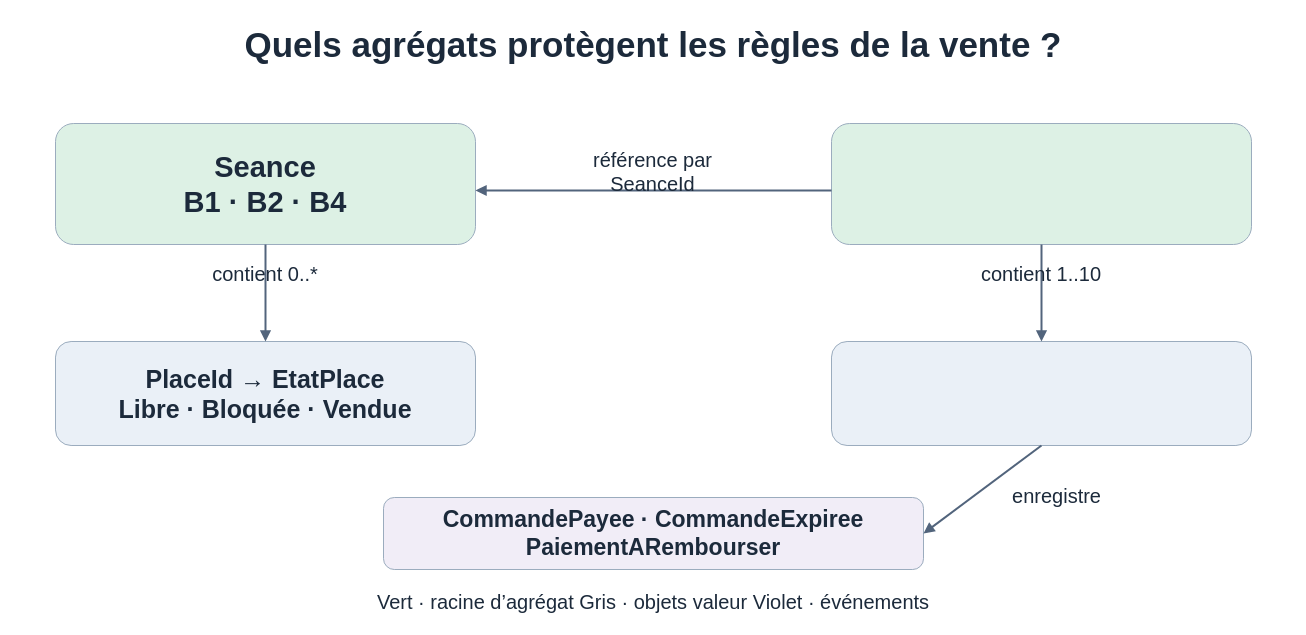
Some shapes in this 1306 by 635 pixel diagram are drawn without their labels. The centre of each missing label's shape, as x and y in pixels:
1..10 Billet PlaceId + Tarif (catégorie et montant): point (1041, 393)
Commande B3 · B6 · cycle de vie: point (1041, 183)
